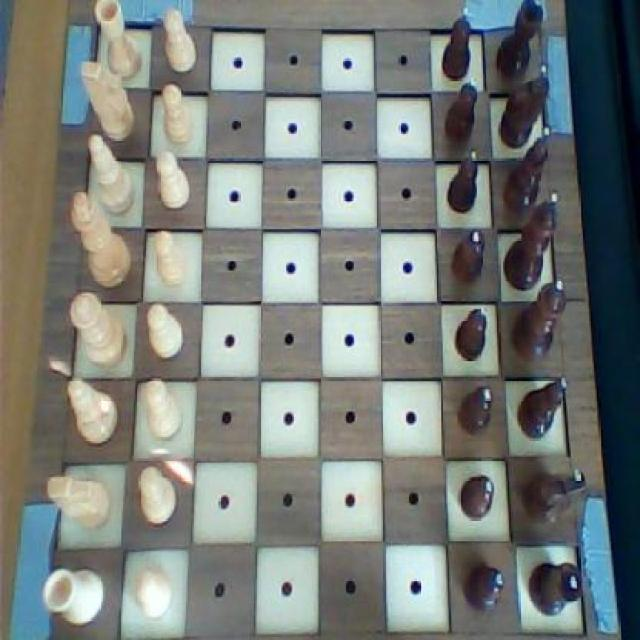bishop: (503, 126, 553, 217), (514, 375, 571, 443)
black-bishop: (500, 188, 562, 292)
black-king: (497, 74, 557, 148), (529, 465, 587, 537)
black-knight: (438, 6, 477, 82), (446, 148, 482, 215), (443, 78, 479, 144), (460, 562, 506, 613), (449, 228, 486, 290), (454, 304, 491, 364), (457, 382, 495, 438), (456, 472, 496, 525)
black-pawn: (508, 275, 566, 368)
black-queen: (492, 0, 550, 82), (528, 555, 584, 621)
black-rook: (86, 129, 140, 218), (62, 372, 119, 448)
white-bishop: (69, 188, 134, 292)
white-king: (80, 60, 140, 144), (44, 472, 114, 536)
white-knight: (156, 5, 200, 76), (126, 562, 176, 622), (137, 462, 180, 529), (143, 378, 184, 442), (152, 147, 193, 210), (146, 302, 187, 364), (160, 80, 197, 145), (151, 228, 191, 288)
white-pawn: (68, 289, 129, 371)
white-queen: (89, 0, 145, 81), (38, 561, 106, 627)
